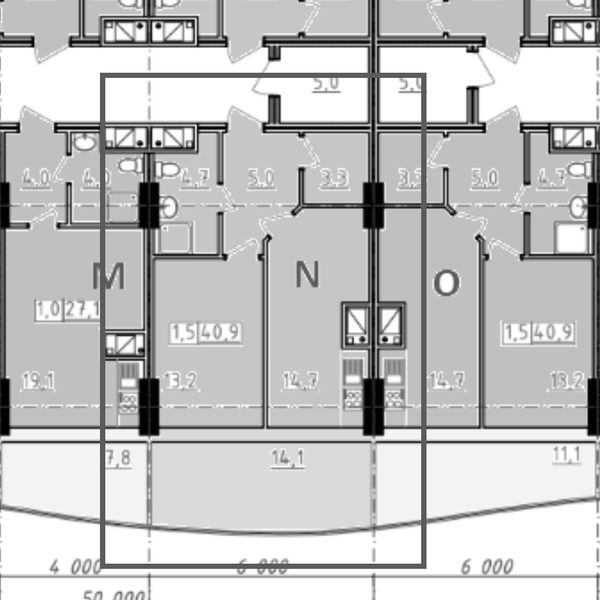wall: (417, 61, 430, 564), (100, 66, 426, 81), (260, 32, 488, 50), (472, 229, 492, 431), (265, 117, 487, 135), (97, 66, 107, 424), (362, 230, 385, 382), (138, 223, 160, 375), (365, 1, 383, 177), (258, 238, 271, 429), (585, 221, 600, 371), (57, 122, 228, 134), (524, 244, 598, 269), (517, 120, 544, 186), (132, 378, 162, 436), (518, 209, 542, 266), (363, 382, 387, 435), (363, 184, 384, 238), (136, 180, 158, 225), (297, 199, 363, 214), (388, 199, 447, 211), (438, 161, 455, 201), (294, 161, 307, 210)
